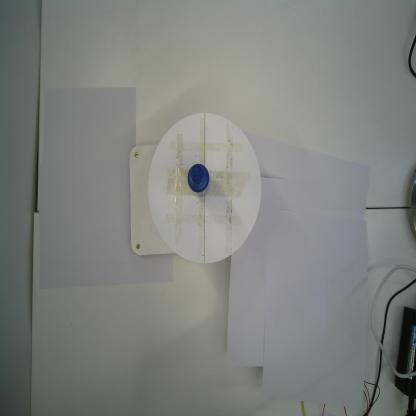Personal Hygiene: (188, 164, 210, 197)
